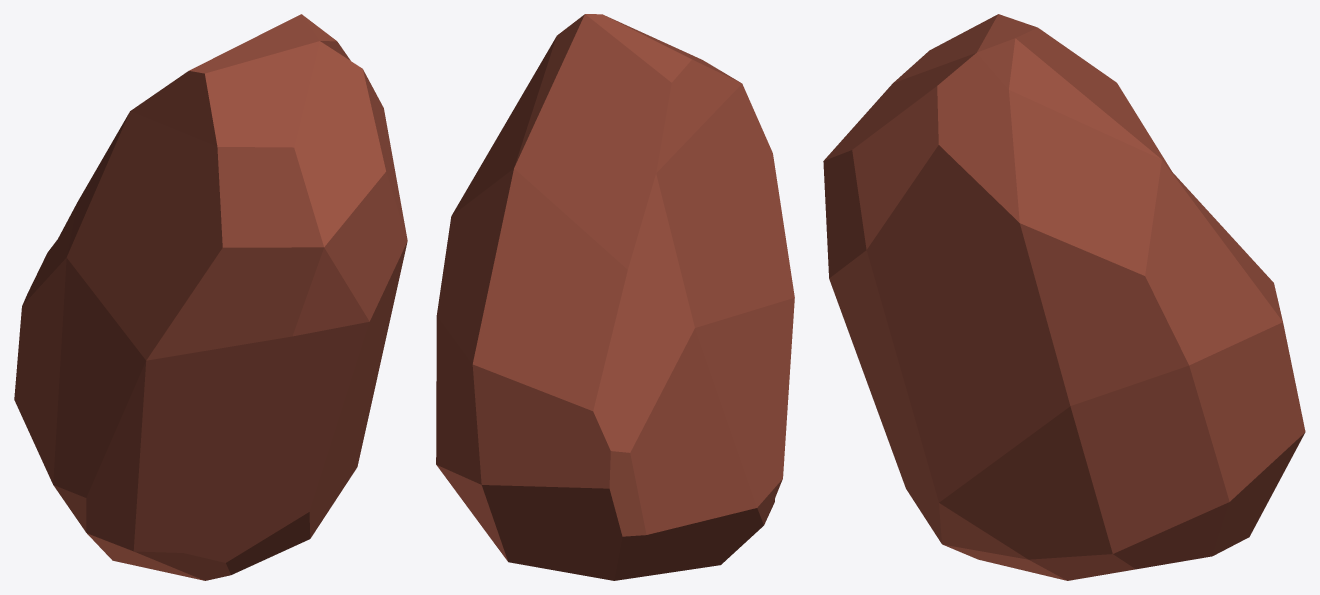
The model's file is Rock_Large_003.fbx.
3 renders of one model, left to right at view 1: azimuth 30°, elevation 25°; view 2: azimuth 150°, elevation 25°; view 3: azimuth 270°, elevation 25°, orthographic. The views are drawn at different scales.
Parts seen in each view (by area): view 1: Rock_Large_003; view 2: Rock_Large_003; view 3: Rock_Large_003.
Part boxes in pixels (bbox=[...]): Rock_Large_003: bbox=[14, 14, 407, 580]; Rock_Large_003: bbox=[436, 14, 794, 580]; Rock_Large_003: bbox=[823, 14, 1305, 580].
Size of the model in its own units: 1691 by 2769 by 2189.
